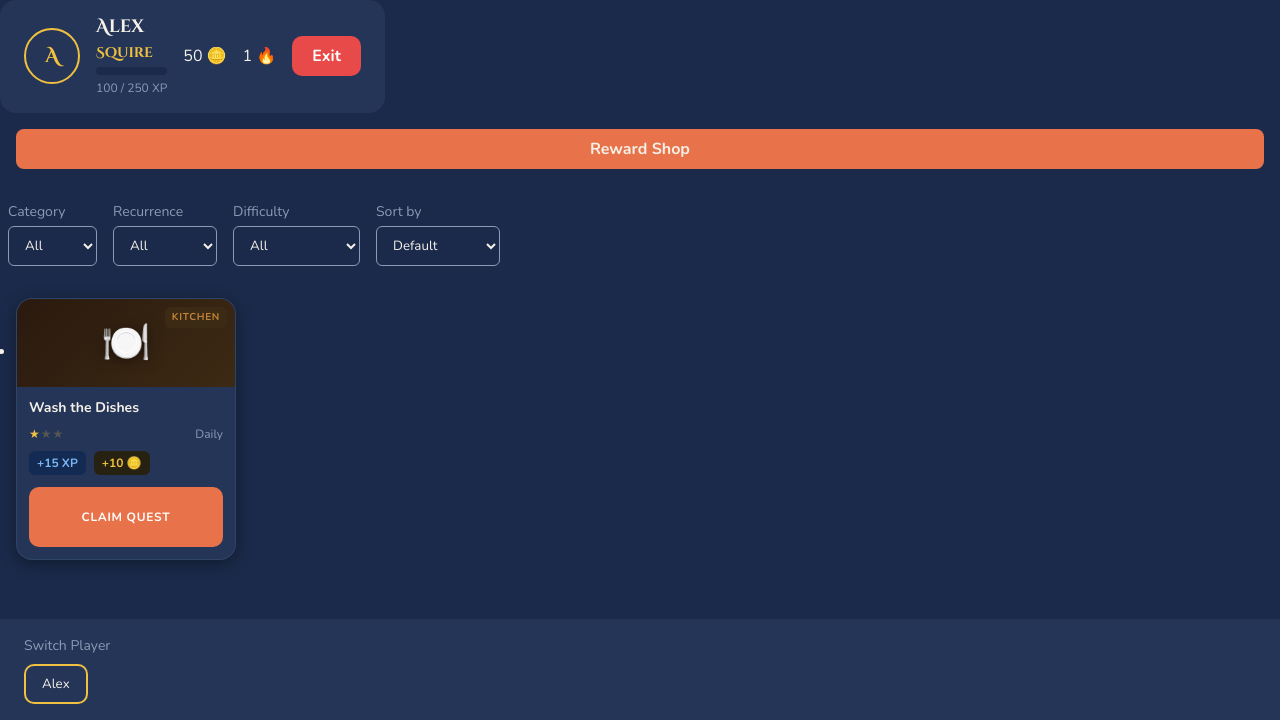
Test: QuestBoard — integration tests › full claim workflow: available quest becomes Awaiting Approval after clicking Claim Quest
Click the button "Claim Quest": (126, 517) 29,487 -> 223,547
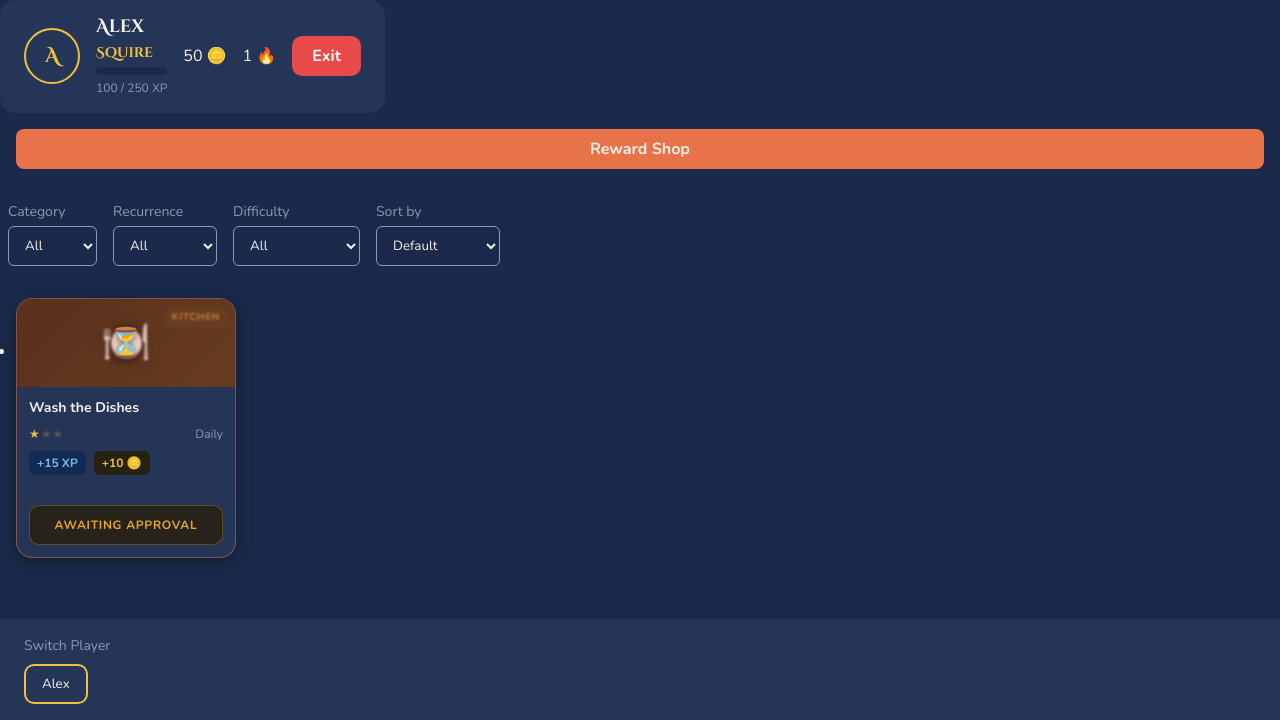
Result: the picture "Awaiting Approval" is shown at 29,505 -> 223,545
Result: the button "Claim Quest" is gone
